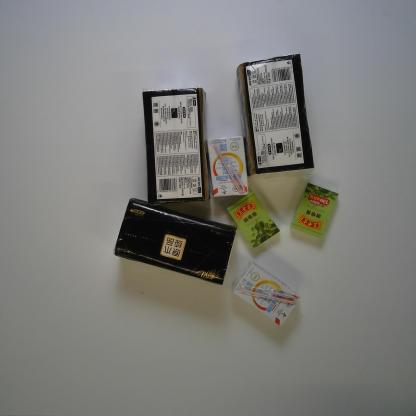Candy: (226, 190, 281, 249), (290, 182, 340, 240)
Milk: (231, 260, 302, 328), (206, 135, 249, 198)
Tissue: (113, 198, 237, 286), (235, 54, 314, 178), (141, 87, 211, 208)
